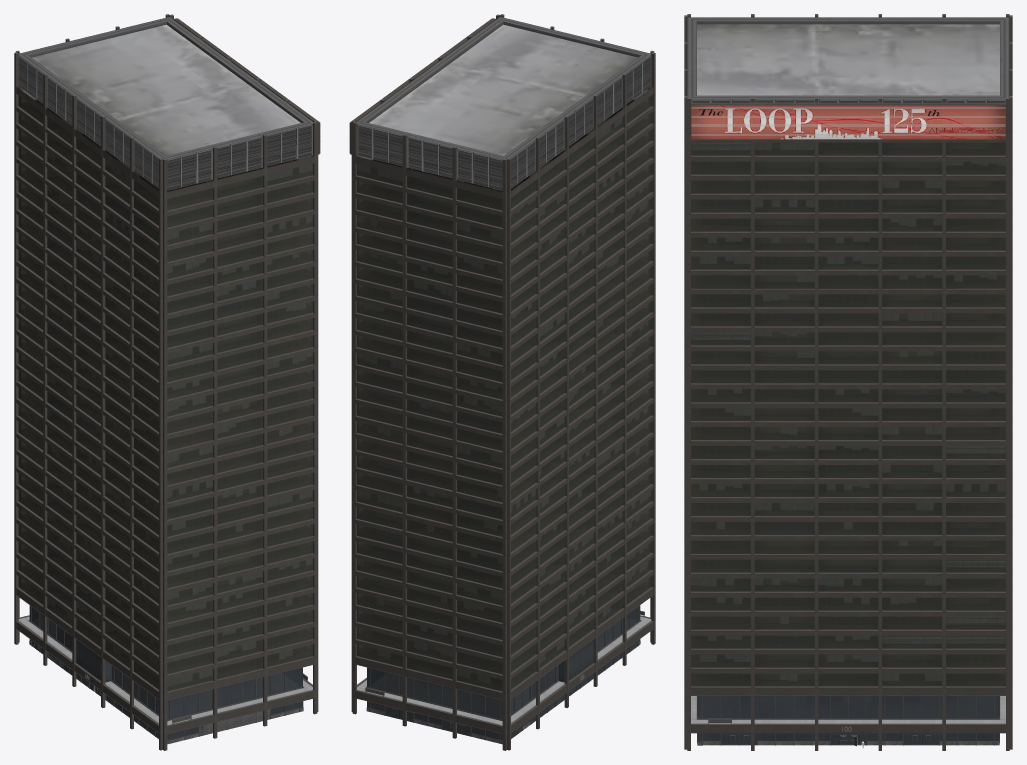
The model's file is free__atlanta_corperate_office_building.glb.
3 views of the same model, side by side, from view 1: azimuth 30°, elevation 25°; view 2: azimuth 150°, elevation 25°; view 3: azimuth 270°, elevation 25° (orthographic). The views are drawn at different scales.
Visible parts, largest first — view 1: Cube.002_Material_0, Cube.005_Glass_0, Cube.012_Parralax Mapping_0, Cube.001_Windows_0, Cube.006_Emmisive_0, Cube.007_Glass Lobby_0, Cube.003_Blinds_0; view 2: Cube.002_Material_0, Cube.005_Glass_0, Cube.012_Parralax Mapping_0, Cube.001_Windows_0, Cube.006_Emmisive_0, Cube.007_Glass Lobby_0, Cube.003_Blinds_0; view 3: Cube.005_Glass_0, Cube.002_Material_0, Cube.012_Parralax Mapping_0, Cube.001_Windows_0, Cube.004_Billboard_0, Cube.007_Glass Lobby_0, Cube.003_Blinds_0, Cube.006_Emmisive_0.
Boxes of the visible parts, x1,y1,x2,y2 form: Cube.002_Material_0: (14,14,320,750); Cube.005_Glass_0: (18,90,312,690); Cube.012_Parralax Mapping_0: (19,96,311,690); Cube.001_Windows_0: (18,90,312,691); Cube.006_Emmisive_0: (18,56,312,190); Cube.007_Glass Lobby_0: (29,605,303,740); Cube.003_Blinds_0: (19,114,311,685); Cube.002_Material_0: (349,14,655,750); Cube.005_Glass_0: (357,90,651,690); Cube.012_Parralax Mapping_0: (358,96,650,690); Cube.001_Windows_0: (357,90,651,691); Cube.006_Emmisive_0: (357,56,651,190); Cube.007_Glass Lobby_0: (367,605,640,740); Cube.003_Blinds_0: (358,118,650,682); Cube.005_Glass_0: (691,142,1005,685); Cube.002_Material_0: (684,14,1012,750); Cube.012_Parralax Mapping_0: (691,143,1005,685); Cube.001_Windows_0: (691,143,1005,686); Cube.004_Billboard_0: (691,105,1005,139); Cube.007_Glass Lobby_0: (697,696,999,744); Cube.003_Blinds_0: (692,143,1004,680); Cube.006_Emmisive_0: (691,99,1005,102).
Size of the model in its own units: 60.83 by 212 by 96.85.
12 materials, 11 textured.
